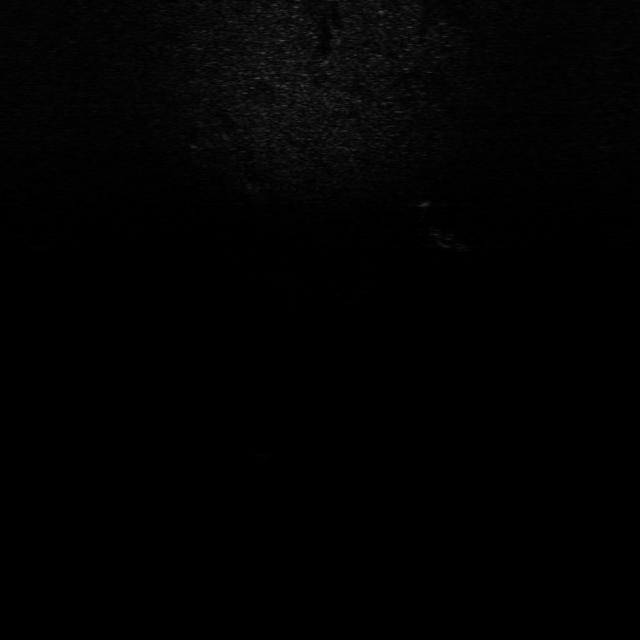human body: (413, 196, 472, 258)
